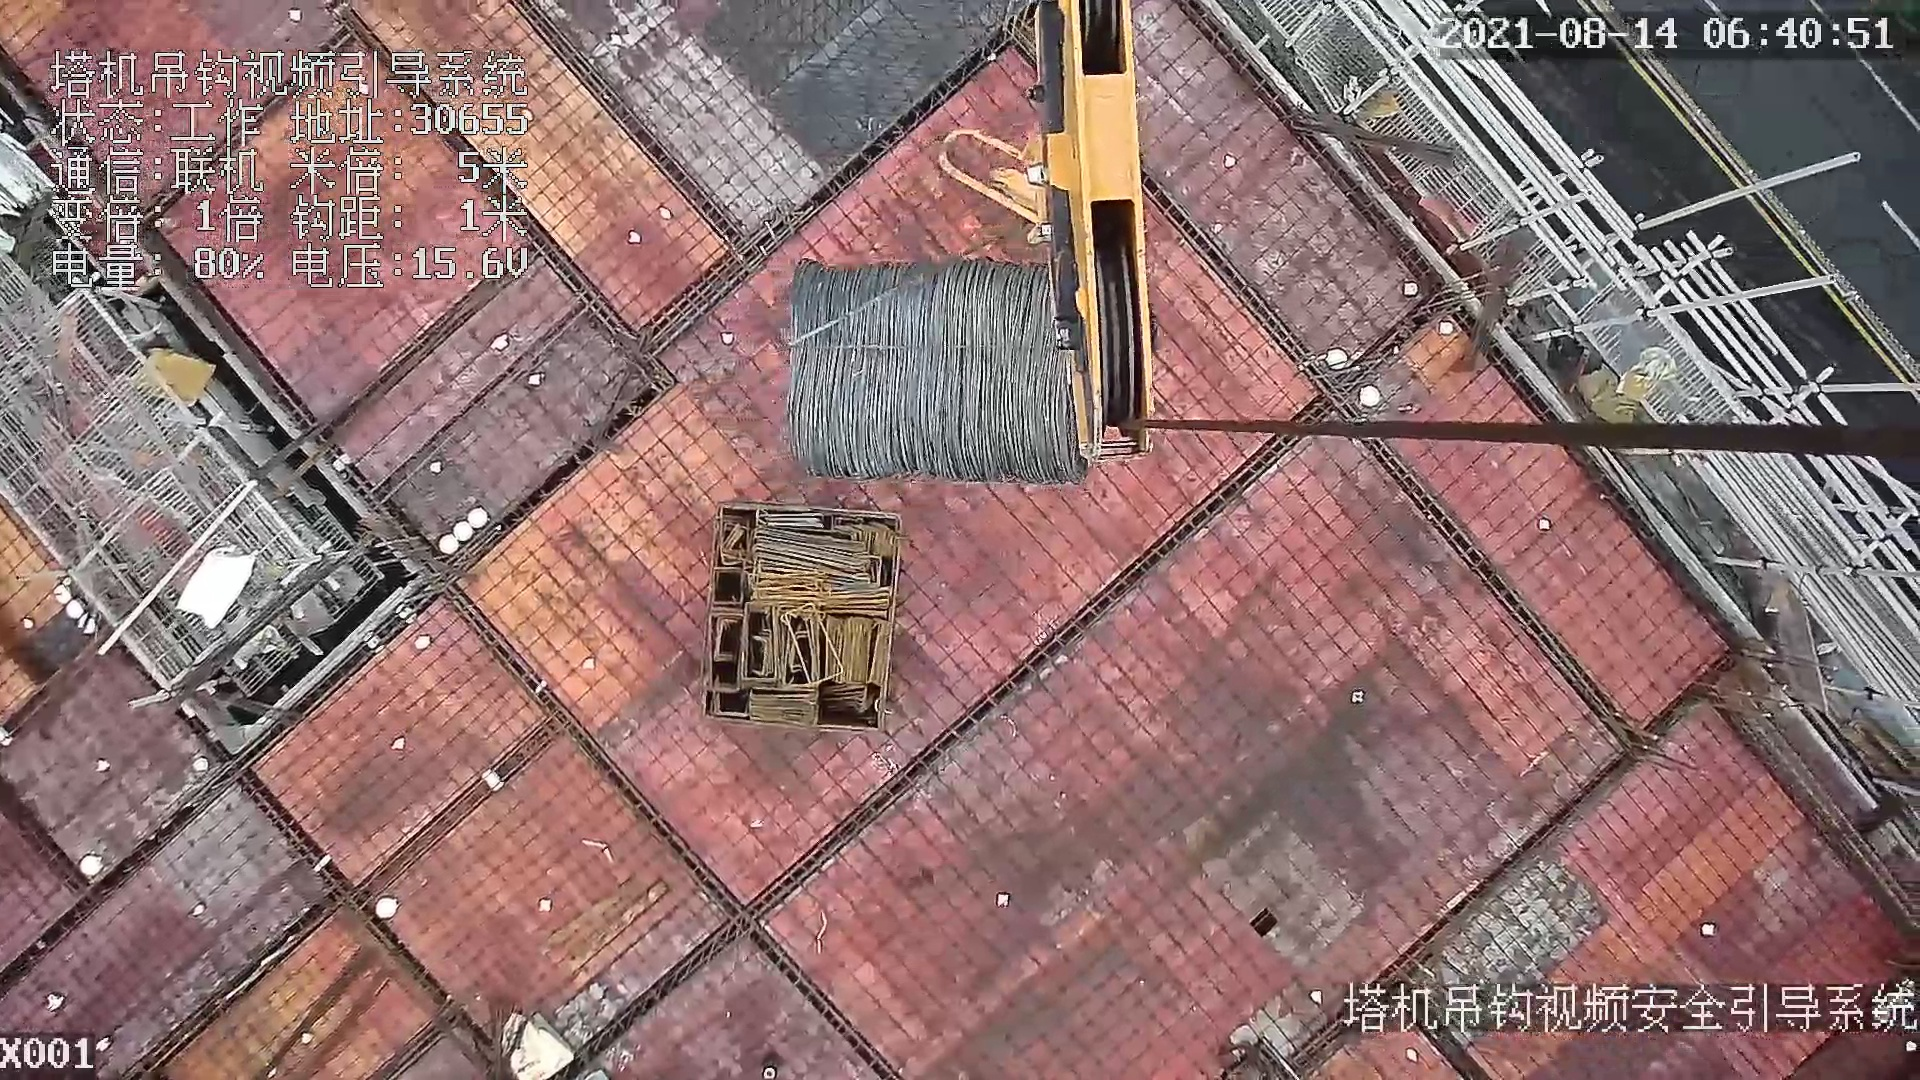hook: (938, 1, 1163, 460)
